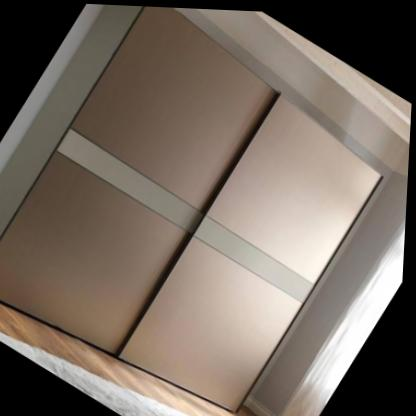Closet: (0, 5, 386, 411)
Curtains: (279, 209, 408, 416)
Wooden floor: (0, 303, 246, 416)
